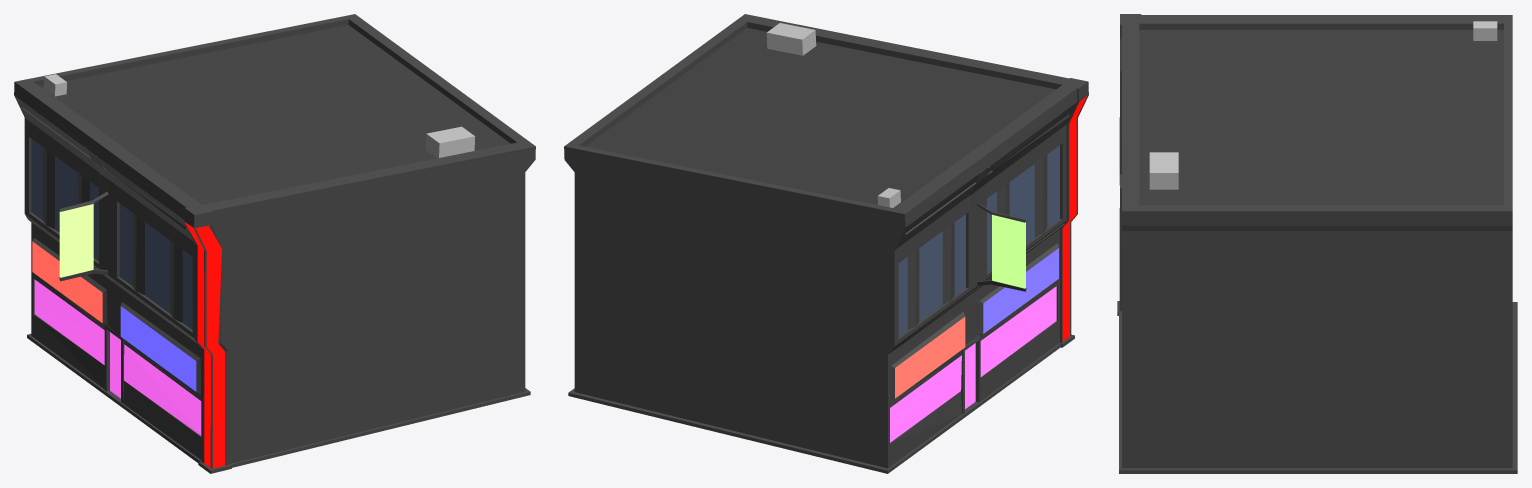
Rendered from TestCP1_LOD1.fbx.
3 renders of one model, left to right at view 1: azimuth 30°, elevation 25°; view 2: azimuth 150°, elevation 25°; view 3: azimuth 270°, elevation 25°, orthographic. The views are drawn at different scales.
Visible parts, largest first — view 1: Cube; view 2: Cube; view 3: Cube.
Part boxes in pixels (bbox=[...]): Cube: bbox=[14, 14, 535, 473]; Cube: bbox=[564, 14, 1088, 473]; Cube: bbox=[1117, 14, 1517, 473].
Size of the model in its own units: 1208 by 813 by 1024.
